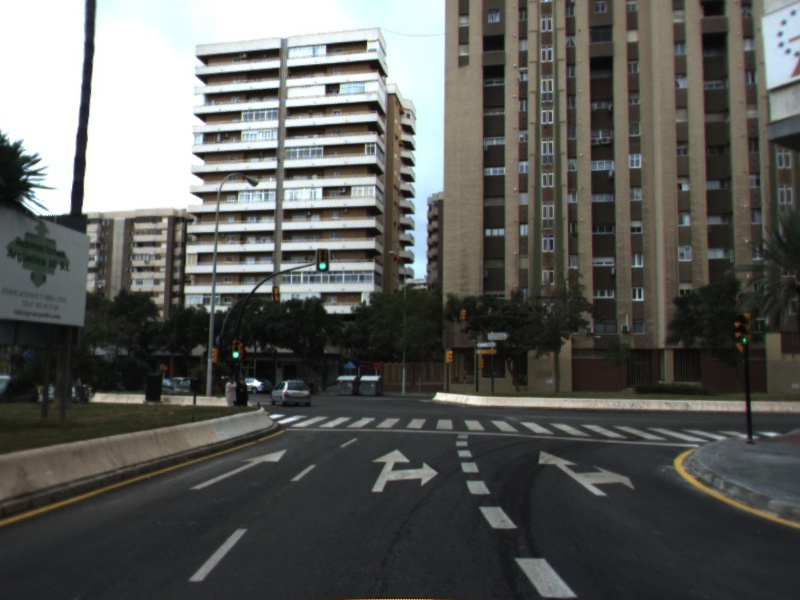STRAIGHT: (186, 447, 291, 492)
STRAIGHT_RIGHT: (537, 449, 638, 498), (369, 447, 441, 494)
